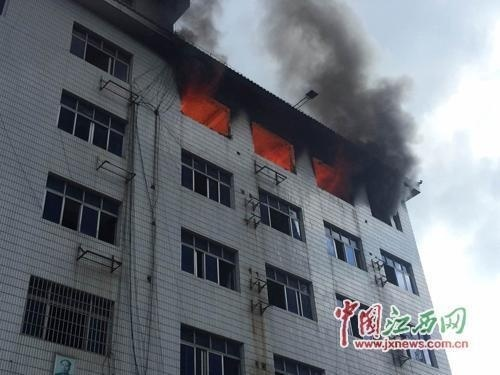fire: (179, 87, 234, 135)
